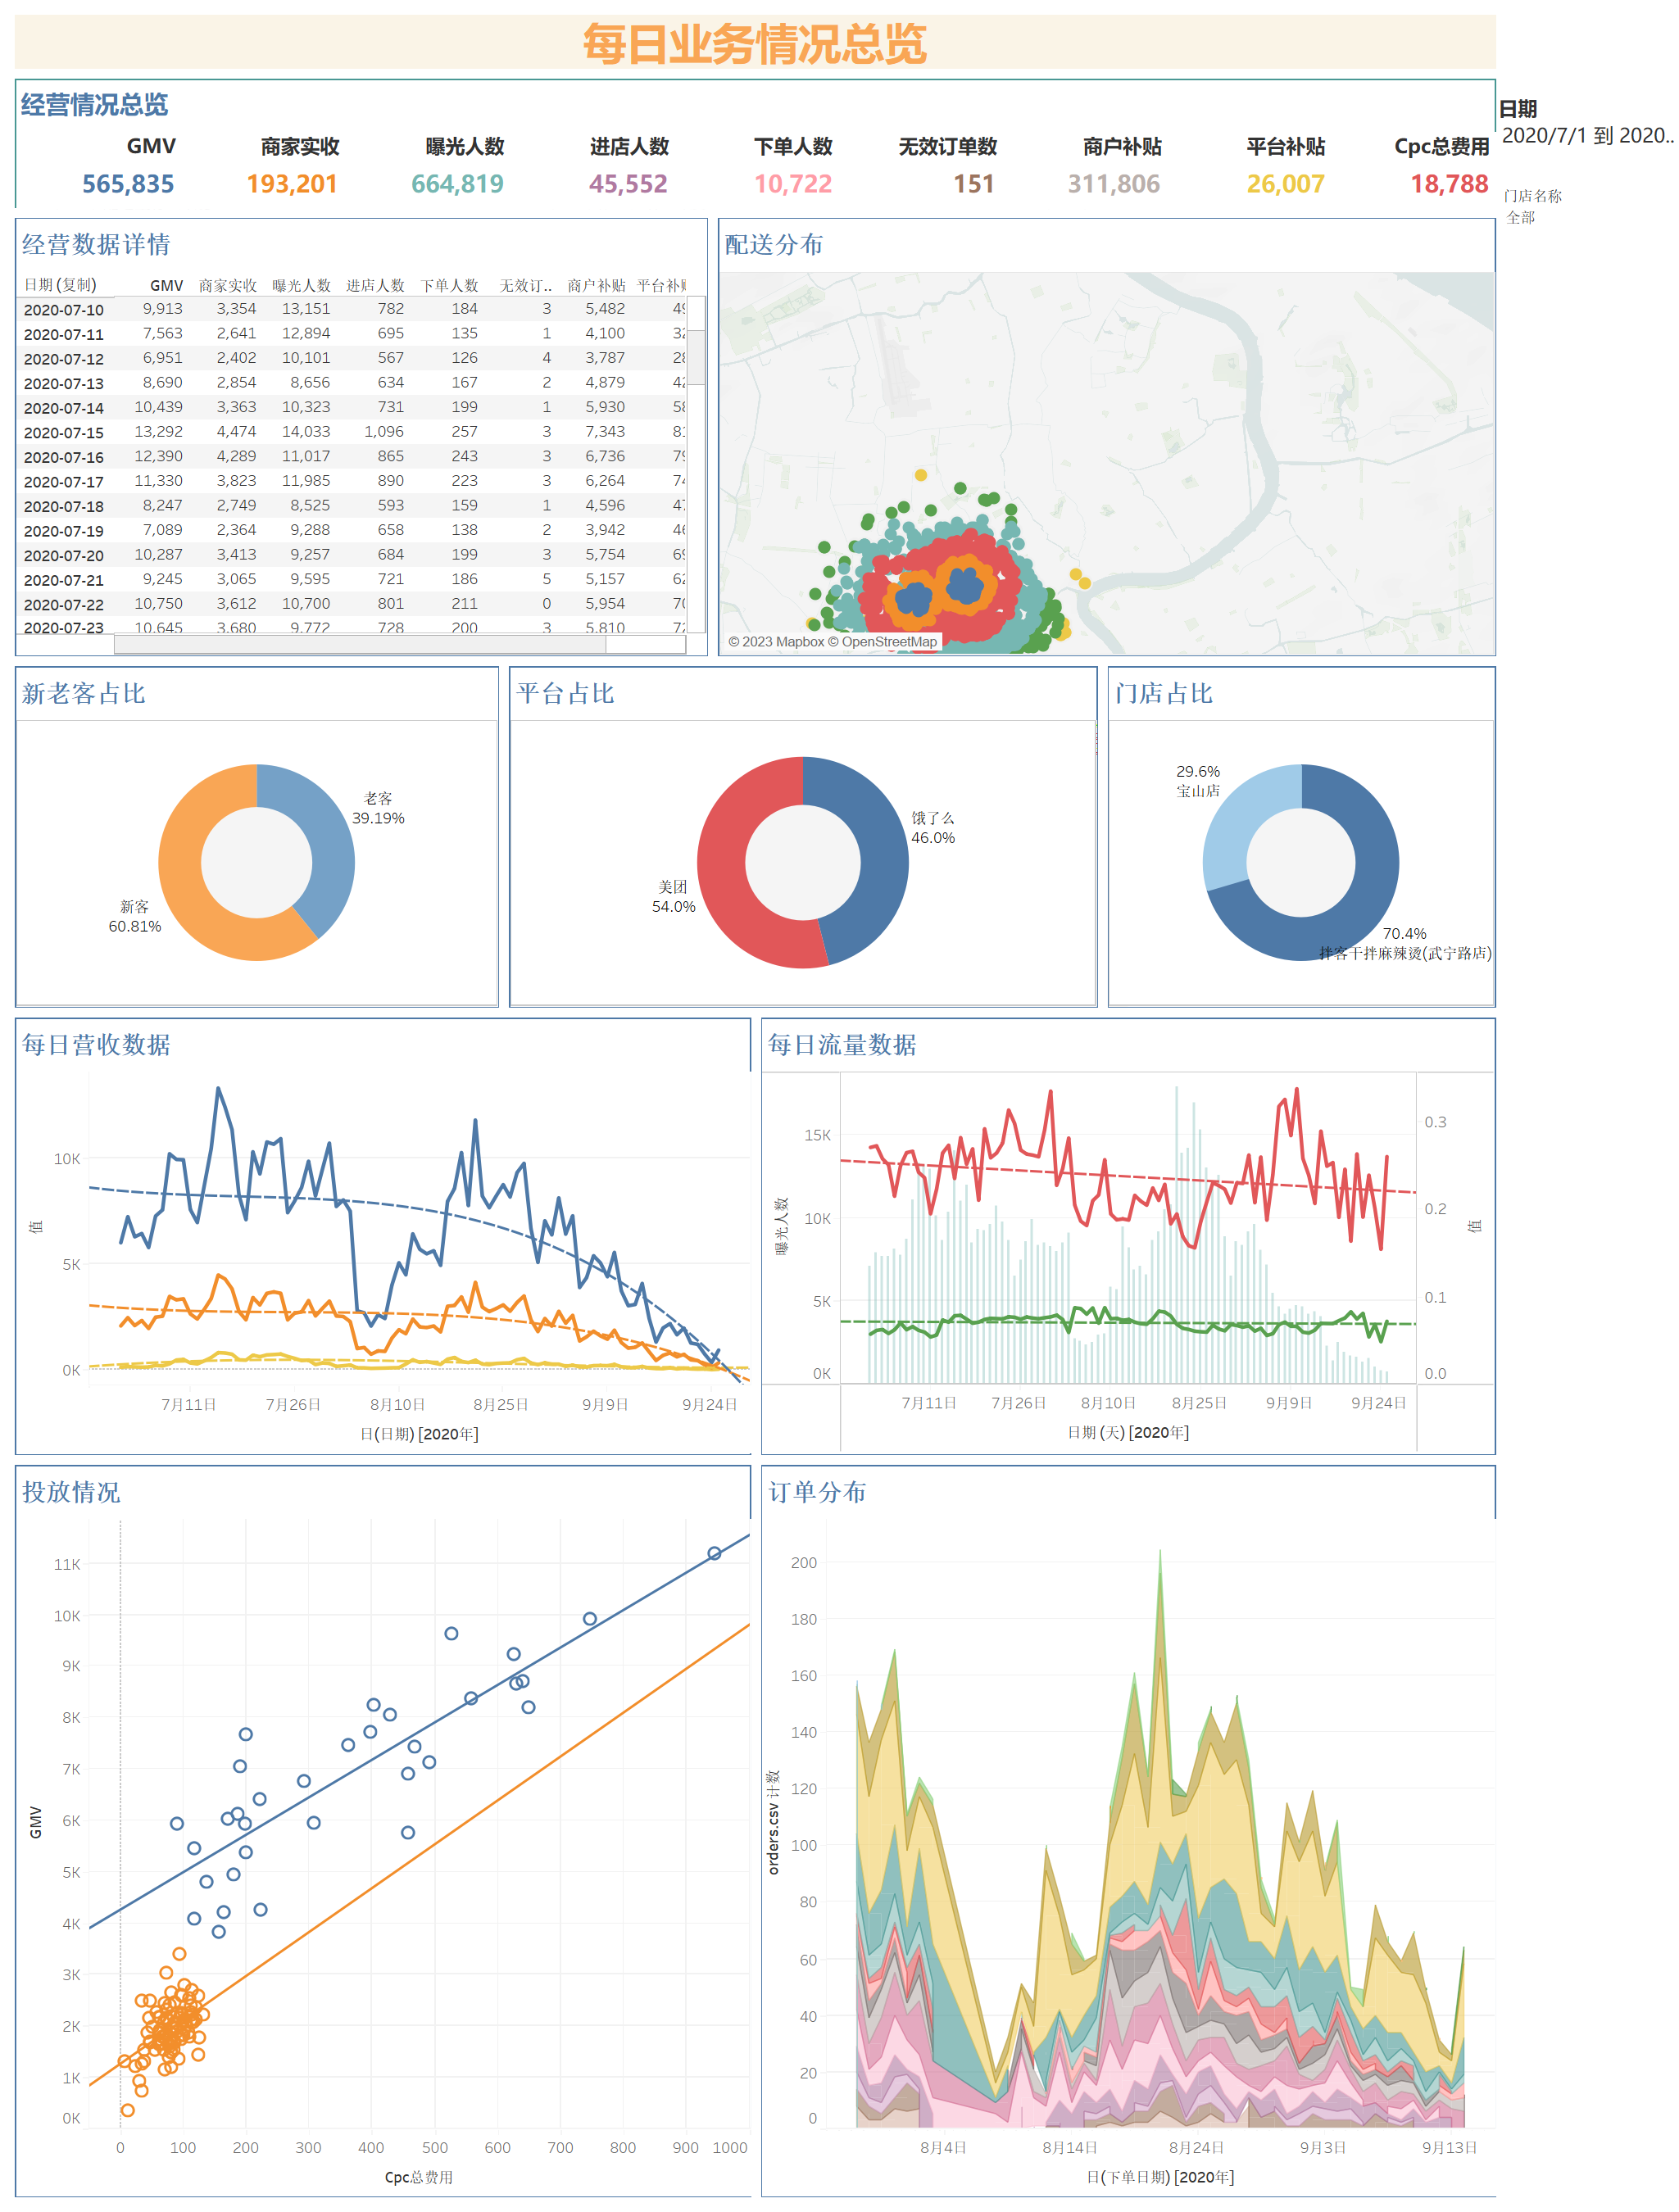

Layout of this report page (visuals, bound fields, positions):
{"tool":"tableau","page":{"name":"仪表板 1","canvas":[1366,1800],"ordinal":0},"visuals":[{"type":"text","box":[8,8,1213,51.6]},{"type":"worksheet","title":"经营情况总览","mark":"Automatic","box":[8,59.6,1213,113.5]},{"type":"filter","title":"经营情况总览","param":"[federated.0wzggs20eni2eo1860cmq1dfv01e].[none:日期:qk]","box":[1219,75.7,149,60.1]},{"type":"filter","title":"经营数据详情","param":"[federated.0wzggs20eni2eo1860cmq1dfv01e].[none:门店名称:nk]","box":[1223,149.7,145,38.3]},{"type":"worksheet","title":"经营数据详情","mark":"Automatic","rows":["日期 (复制)_609674824525041664"],"box":[8,173.1,571.8,364.9]},{"type":"worksheet","title":"配送分布","mark":"Automatic","rows":["配送坐标 - 纬度"],"cols":["配送坐标 - 经度"],"box":[579.8,173.1,641.2,364.9]},{"type":"worksheet","title":"新老客占比","mark":"Pie","rows":["Calculation_179299585707274243","Calculation_179299585707290629"],"box":[8,538,401.6,286.3]},{"type":"worksheet","title":"平台占比","mark":"Pie","rows":["Calculation_179299585707274243","Calculation_179299585707290629"],"box":[409.6,538,487,286.3]},{"type":"worksheet","title":"门店占比","mark":"Pie","rows":["Calculation_179299585707274243","Calculation_179299585707290629"],"box":[896.6,538,324.4,286.3]},{"type":"worksheet","title":"每日营收数据","mark":"Automatic","cols":["日期"],"box":[8,824.3,606.5,363.4]},{"type":"worksheet","title":"每日流量数据","mark":"Automatic","rows":["曝光人数"],"cols":["日期 (天)"],"box":[614.5,824.3,606.5,363.4]},{"type":"worksheet","title":"投放情况","mark":"Automatic","rows":["GMV"],"cols":["cpc总费用"],"box":[8,1187.7,606.5,604.3]},{"type":"worksheet","title":"订单分布","mark":"Area","rows":["orders.csv_BBC9A3840070421DA043C6641B78B14C"],"cols":["下单日期"],"box":[614.5,1187.7,606.5,604.3]}]}

Visuals, with their boxes in screenshot pixels (x1, y1, x2, y2), scaled from the page's 1366x1800 canvas onto the 1679x2212 screenshot:
text: BBox(10, 10, 1501, 73)
"经营情况总览" worksheet: BBox(10, 73, 1501, 213)
"经营情况总览" filter: BBox(1498, 93, 1678, 167)
"经营数据详情" filter: BBox(1503, 184, 1678, 231)
"经营数据详情" worksheet: BBox(10, 213, 713, 661)
"配送分布" worksheet: BBox(713, 213, 1501, 661)
"新老客占比" worksheet (Pie marks): BBox(10, 661, 503, 1013)
"平台占比" worksheet (Pie marks): BBox(503, 661, 1102, 1013)
"门店占比" worksheet (Pie marks): BBox(1102, 661, 1501, 1013)
"每日营收数据" worksheet: BBox(10, 1013, 756, 1460)
"每日流量数据" worksheet: BBox(756, 1013, 1501, 1460)
"投放情况" worksheet: BBox(10, 1460, 756, 2202)
"订单分布" worksheet (Area marks): BBox(756, 1460, 1501, 2202)
